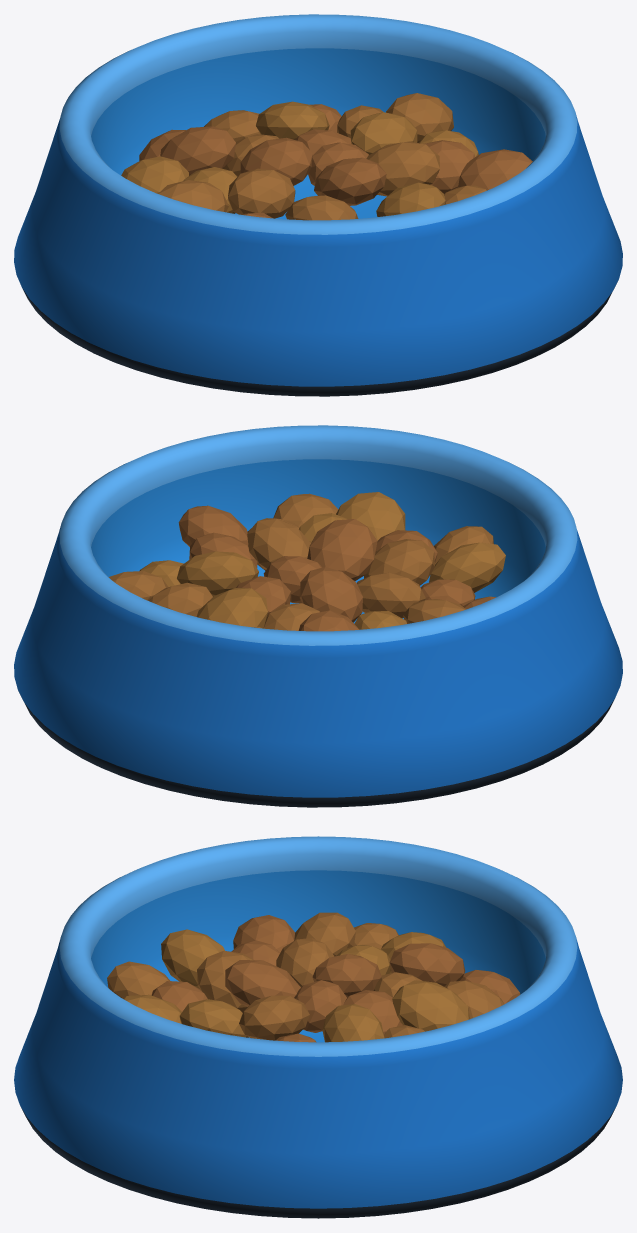
Rendered from KitchenFoodBowl.glb.
3 renders of one model, top to bottom at view 1: azimuth 30°, elevation 25°; view 2: azimuth 150°, elevation 25°; view 3: azimuth 270°, elevation 25°, orthographic.
Visible parts, largest first — view 1: Blue food bowl, Kibble piece 5, Kibble piece 3, Kibble piece 6, Kibble piece 15, Kibble piece 2, Kibble piece 12, Kibble piece 27, Kibble piece 9, Kibble piece 30, Kibble piece 23, Kibble piece 11 (+11 smaller); view 2: Blue food bowl, Kibble piece 3, Kibble piece 21, Kibble piece 2, Kibble piece 9, Kibble piece 6, Kibble piece 8, Kibble piece 5, Kibble piece 12, Kibble piece 24, Kibble piece 27, Kibble piece 17 (+14 smaller); view 3: Blue food bowl, Kibble piece 12, Kibble piece 6, Kibble piece 3, Kibble piece 15, Kibble piece 21, Kibble piece 2, Kibble piece 9, Kibble piece 11, Kibble piece 5, Kibble piece 18, Kibble piece 8 (+13 smaller).
Boxes of the visible parts, x1=… form: Blue food bowl: x1=14, y1=14, x2=622, y2=396; Kibble piece 5: x1=228, y1=168, x2=295, y2=218; Kibble piece 3: x1=314, y1=157, x2=386, y2=205; Kibble piece 6: x1=366, y1=141, x2=439, y2=196; Kibble piece 15: x1=160, y1=126, x2=235, y2=175; Kibble piece 2: x1=240, y1=137, x2=312, y2=185; Kibble piece 12: x1=256, y1=101, x2=329, y2=139; Kibble piece 27: x1=458, y1=149, x2=532, y2=190; Kibble piece 9: x1=350, y1=112, x2=417, y2=154; Kibble piece 30: x1=386, y1=93, x2=453, y2=142; Kibble piece 23: x1=121, y1=156, x2=188, y2=193; Kibble piece 11: x1=376, y1=182, x2=445, y2=216; Blue food bowl: x1=14, y1=425, x2=622, y2=807; Kibble piece 3: x1=307, y1=519, x2=377, y2=580; Kibble piece 21: x1=429, y1=542, x2=505, y2=592; Kibble piece 2: x1=299, y1=567, x2=362, y2=622; Kibble piece 9: x1=177, y1=551, x2=258, y2=596; Kibble piece 6: x1=247, y1=518, x2=310, y2=569; Kibble piece 8: x1=364, y1=539, x2=434, y2=585; Kibble piece 5: x1=357, y1=572, x2=425, y2=618; Kibble piece 12: x1=196, y1=588, x2=267, y2=628; Kibble piece 24: x1=336, y1=492, x2=405, y2=540; Kibble piece 27: x1=178, y1=505, x2=248, y2=546; Kibble piece 17: x1=149, y1=582, x2=212, y2=616; Blue food bowl: x1=14, y1=836, x2=622, y2=1218; Kibble piece 12: x1=392, y1=980, x2=469, y2=1031; Kibble piece 6: x1=239, y1=995, x2=309, y2=1040; Kibble piece 3: x1=225, y1=960, x2=300, y2=1006; Kibble piece 15: x1=389, y1=943, x2=465, y2=986; Kibble piece 21: x1=161, y1=929, x2=224, y2=988; Kibble piece 2: x1=312, y1=954, x2=381, y2=997; Kibble piece 9: x1=322, y1=1004, x2=384, y2=1042; Kibble piece 11: x1=179, y1=999, x2=248, y2=1037; Kibble piece 5: x1=276, y1=938, x2=334, y2=987; Kibble piece 18: x1=294, y1=912, x2=355, y2=956; Kibble piece 8: x1=197, y1=950, x2=254, y2=1012.
Size of the model in its own units: 2 by 0.575 by 2.
